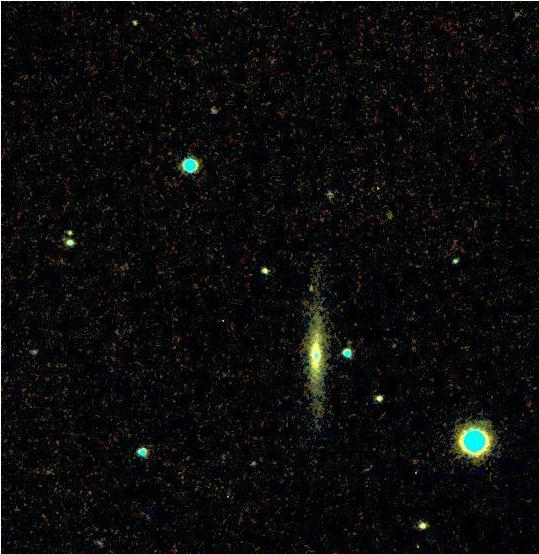star: (296, 266, 326, 296)
